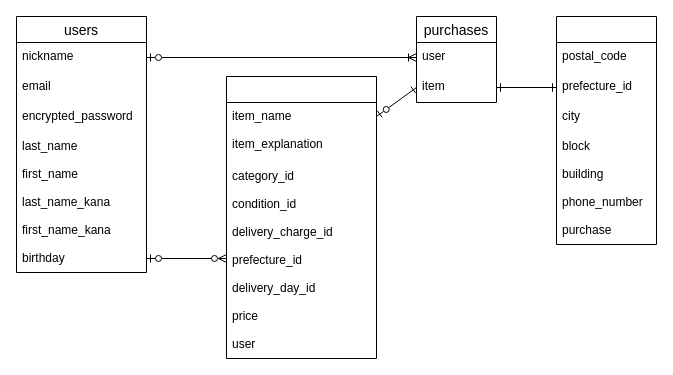
Some shapes in this 673 by 375 pixel diagram are drawn without their labels. The box of each missing label's shape, as (x1, y1, x2, y2) in pixels:
addresses: (556, 16, 656, 244)
items: (226, 76, 376, 358)
